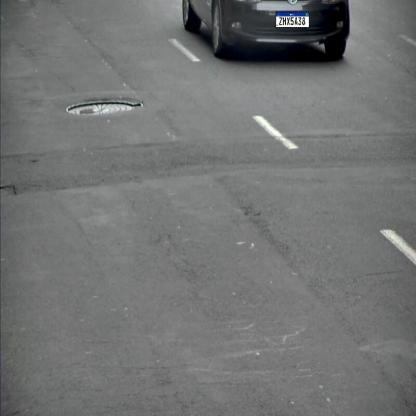PlacaM: (276, 12, 310, 28)
